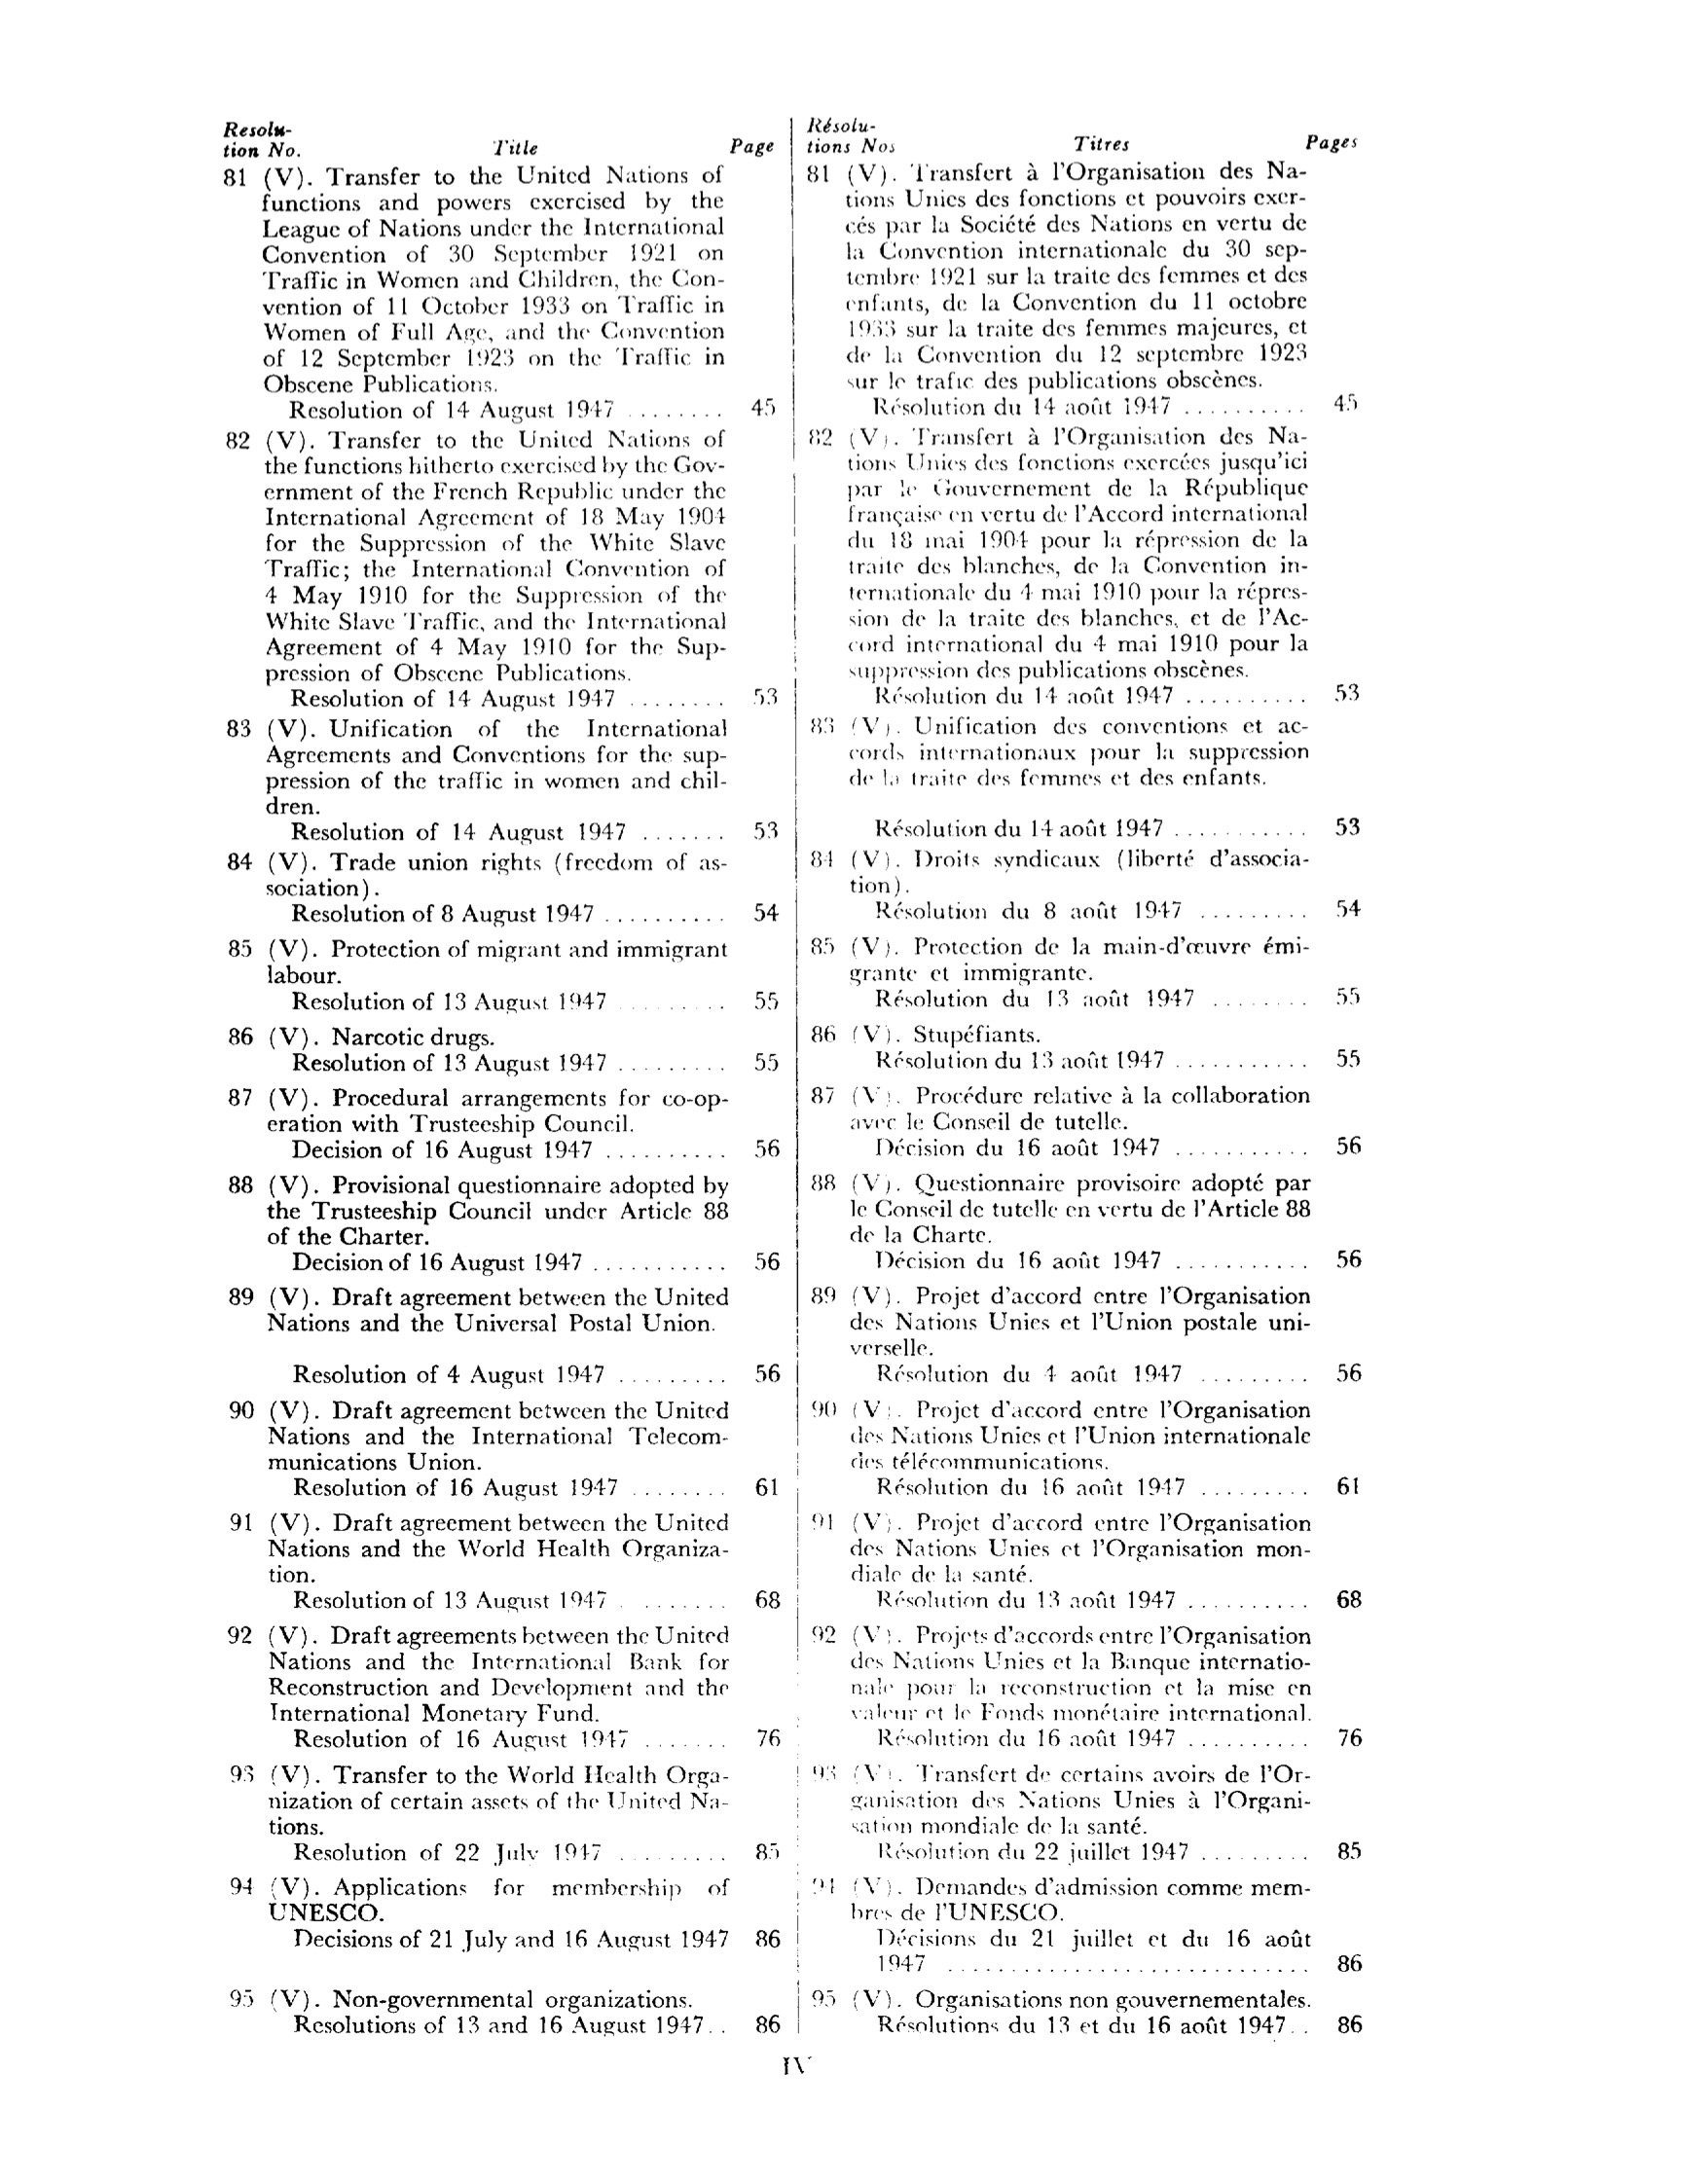NumberingZone: (772, 2048, 816, 2082)
TitlePageZone-Index: (170, 102, 796, 2052), (803, 102, 1406, 2048)
